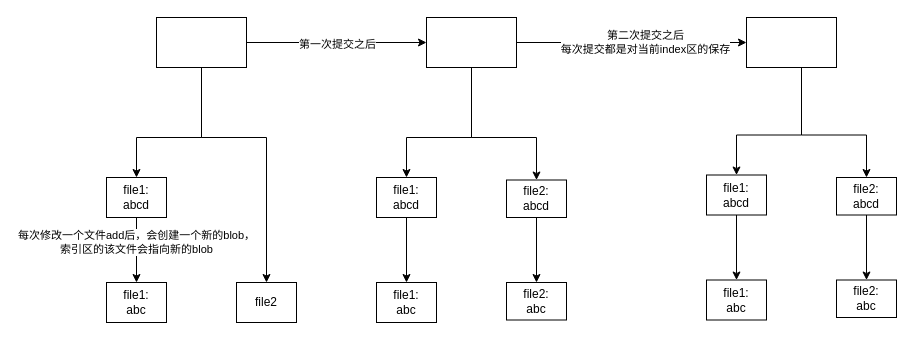
The diagram is 914 pixels wide and 340 high, and some of its shapes have lost their labels. Here are the shapes that lost their labels. From the top down, the centre of each, then its label:
At point (201, 42): "commit 1".
At point (471, 42): "commit 2".
At point (791, 42): "index暂存区".
